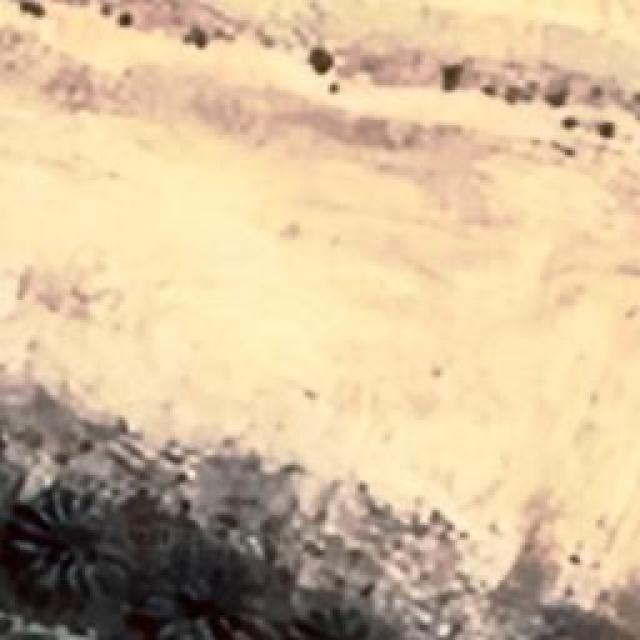PalmTree: (120, 65, 338, 622), (105, 36, 202, 602), (18, 488, 132, 590)
